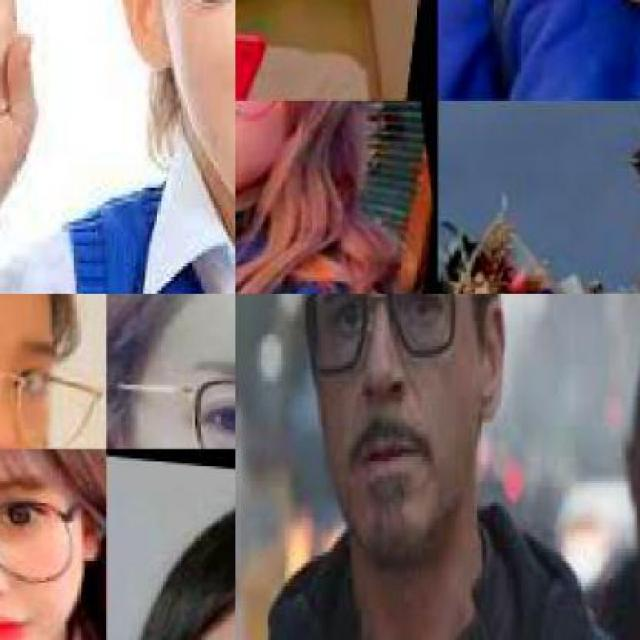glasses: (288, 294, 472, 386), (0, 454, 86, 626), (0, 324, 105, 448), (106, 362, 234, 448)
